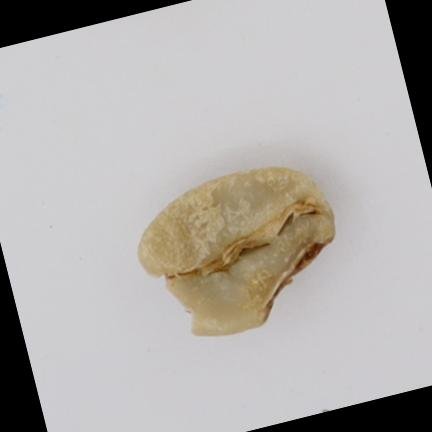cut: (138, 166, 334, 335)
